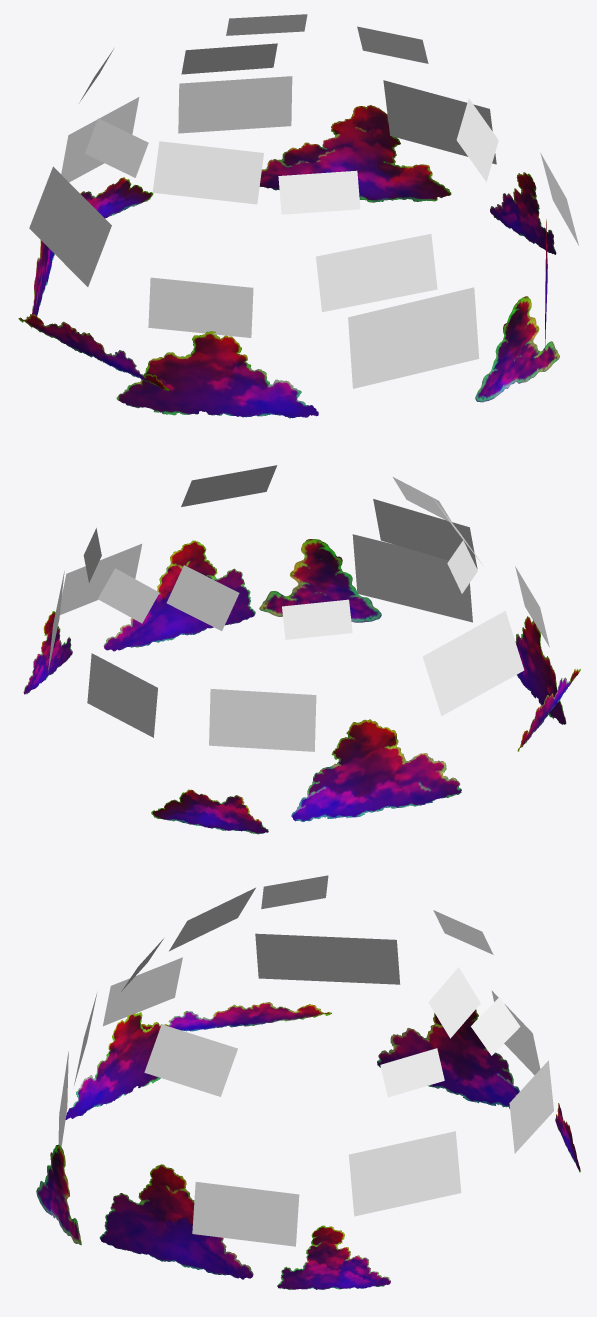
Rendered from cloudbaking.fbx.
3 views of the same model, one above another, from view 1: azimuth 30°, elevation 25°; view 2: azimuth 150°, elevation 25°; view 3: azimuth 270°, elevation 25° (orthographic). The views are drawn at different scales.
Visible parts, largest first — view 1: Empty.022; view 2: Empty.022; view 3: Empty.022.
Boxes of the visible parts, x1=… form: Empty.022: x1=18, y1=14, x2=578, y2=418; Empty.022: x1=23, y1=465, x2=580, y2=834; Empty.022: x1=36, y1=875, x2=580, y2=1289.
Size of the model in its own units: 2.47 by 1.1 by 2.47.
